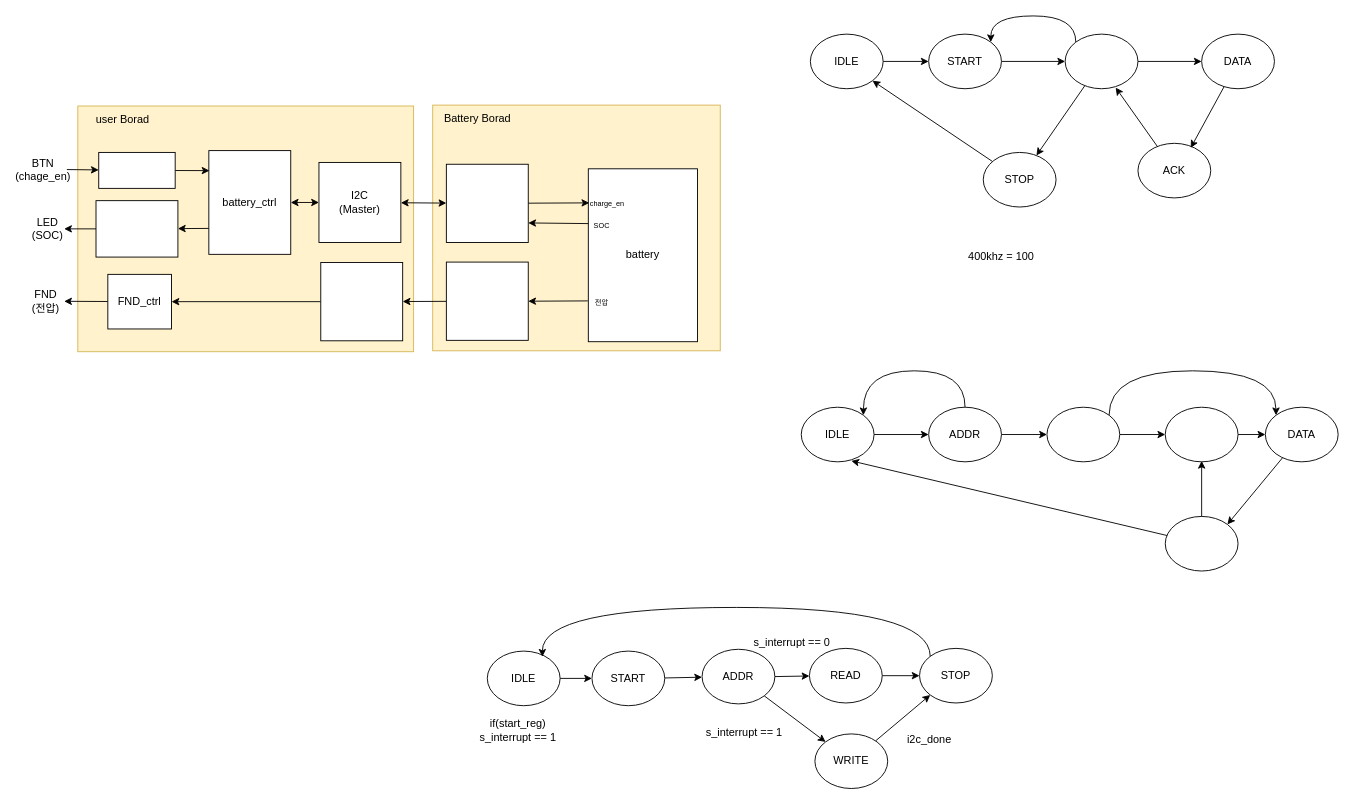
Image size: 1354x804. Some labels were removed from this diagram. Each missing label, with the centre of its shape:
ADDR ACK: (x=1083, y=434)
btn_debounce: (x=136, y=170)
DATA ACK: (x=1201, y=543)
I2C (slave): (x=486, y=203)
led_spread: (x=136, y=228)
SPI (Master): (x=486, y=300)
SPI (slave): (x=361, y=301)
WAIT CMD: (x=1101, y=61)
WAIT DATA: (x=1201, y=434)
